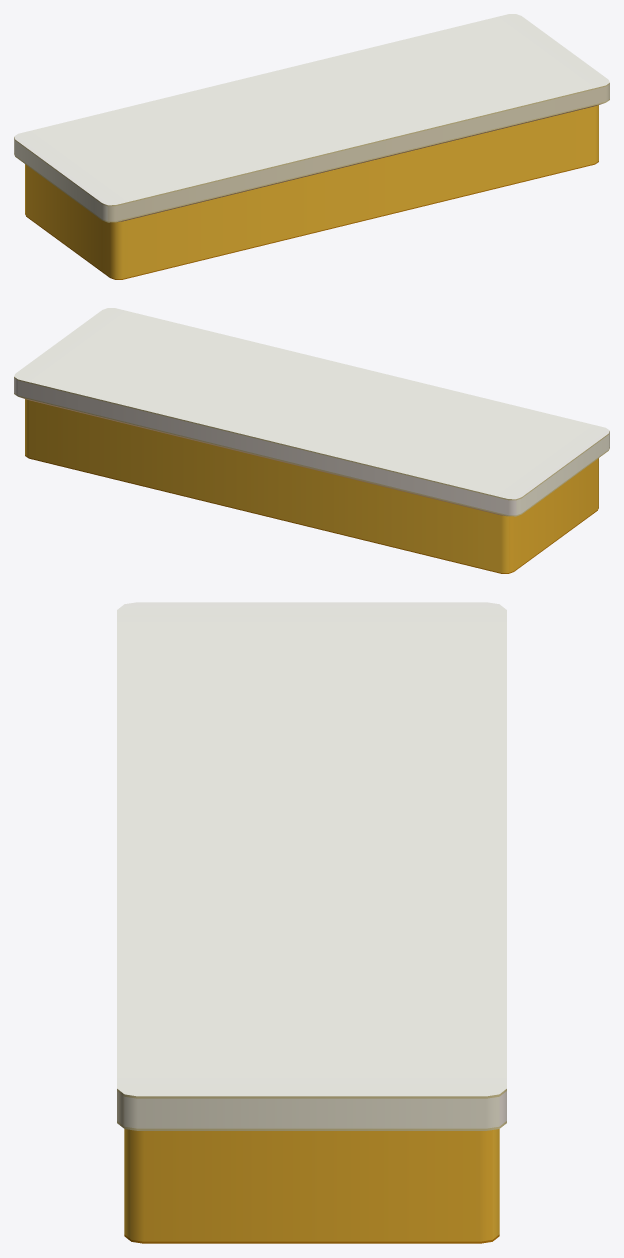
The model's file is Packaging_Worktable.FBX.
3 views of the same model, one above another, from view 1: azimuth 30°, elevation 25°; view 2: azimuth 150°, elevation 25°; view 3: azimuth 270°, elevation 25° (orthographic). The views are drawn at different scales.
Parts seen in each view (by area): view 1: Box008; view 2: Box008; view 3: Box008.
Boxes of the visible parts, x1,y1,x2,y2 form: Box008: (14, 14, 609, 279); Box008: (14, 308, 609, 573); Box008: (117, 602, 506, 1243).
Size of the model in its own units: 96.65 by 32.22 by 14.27.
1 material, 1 textured.
